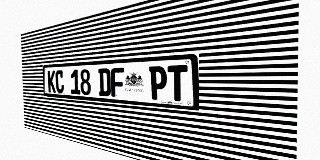1: (70, 69, 80, 94)
8: (80, 69, 91, 95)
C: (55, 70, 64, 93)
D: (98, 68, 111, 97)
F: (111, 68, 124, 98)
K: (48, 70, 56, 93)
P: (149, 66, 167, 100)
T: (167, 65, 188, 102)
